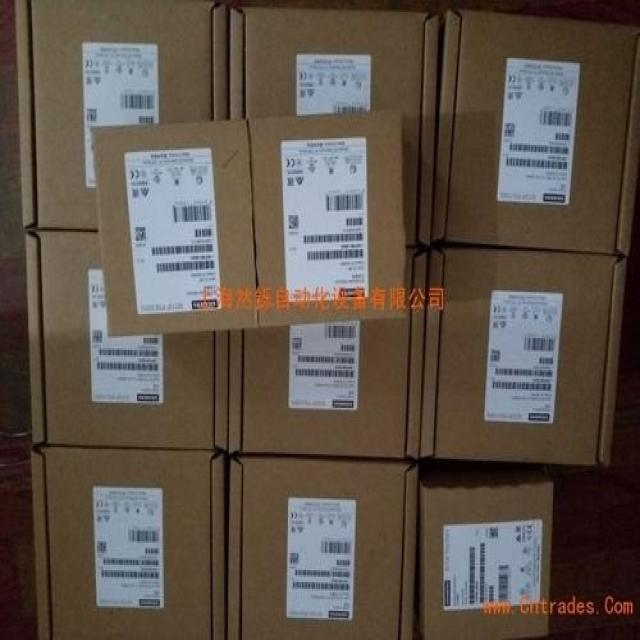box: (431, 9, 640, 258), (228, 2, 440, 247), (15, 0, 228, 230), (419, 247, 631, 464), (24, 230, 229, 452), (228, 247, 430, 457), (29, 445, 228, 640), (90, 119, 259, 336), (225, 452, 419, 640), (247, 109, 408, 326), (413, 471, 553, 638)
